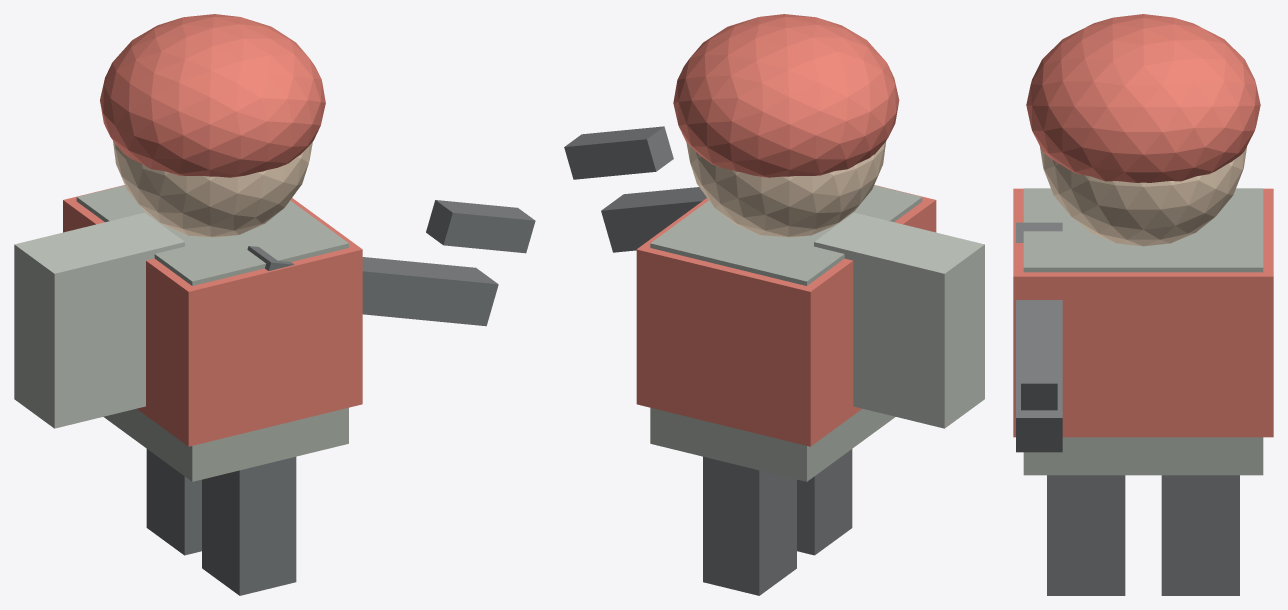
The model's file is infantry_red.glb.
3 views of the same model, side by side, from view 1: azimuth 30°, elevation 25°; view 2: azimuth 150°, elevation 25°; view 3: azimuth 270°, elevation 25° (orthographic). The views are drawn at different scales.
Parts seen in each view (by area): view 1: part03, part05, part06, part02, part00, part04, part07, part08, part01; view 2: part03, part05, part06, part02, part01, part04, part08, part00, part07; view 3: part03, part05, part02, part04, part00, part01, part07, part08.
Boxes of the visible parts, x1,y1,x2,y2 form: part03: (63,185,362,446); part05: (100,14,325,177); part06: (14,212,184,428); part02: (76,185,348,481); part00: (202,456,296,595); part04: (113,141,312,237); part07: (247,246,498,326); part08: (426,200,535,253); part01: (146,449,201,555); part03: (636,185,936,446); part05: (673,14,899,177); part06: (814,212,984,428); part02: (650,185,922,481); part01: (703,456,796,595); part04: (686,141,886,237); part08: (564,126,673,179); part00: (797,449,852,555); part07: (601,187,706,252); part03: (1013,188,1273,437); part05: (1026,14,1260,182); part02: (1023,188,1263,475); part04: (1040,147,1246,246); part00: (1047,475,1125,595); part01: (1161,475,1239,595); part07: (1016,222,1062,452); part08: (1021,312,1057,410).
Size of the model in its own units: 1.02 by 1.16 by 0.5.
